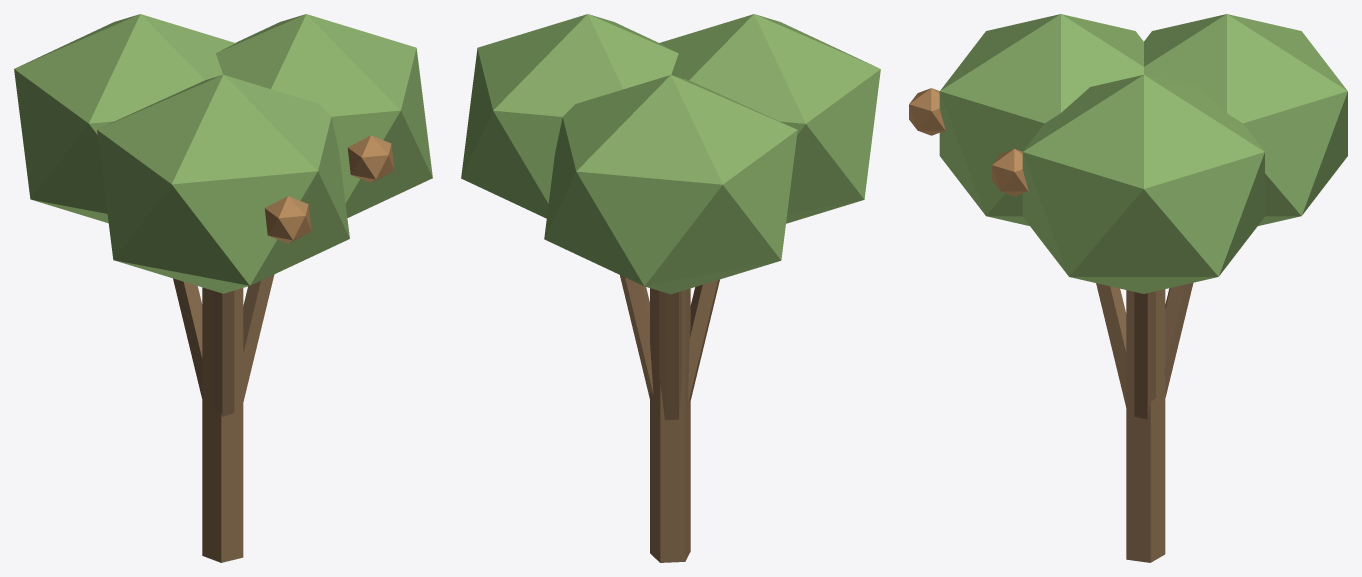
File: plant_hazel_ripe.glb
3 views of the same model, side by side, from view 1: azimuth 30°, elevation 25°; view 2: azimuth 150°, elevation 25°; view 3: azimuth 270°, elevation 25° (orthographic).
Parts seen in each view (by area): view 1: plant_hazel_ripe; view 2: plant_hazel_ripe; view 3: plant_hazel_ripe.
Boxes of the visible parts, x1,y1,x2,y2 form: plant_hazel_ripe: [14, 14, 432, 562]; plant_hazel_ripe: [461, 14, 880, 562]; plant_hazel_ripe: [909, 14, 1347, 562].
Bounding box in the file's own units: 0.8313 × 1.2 × 0.9158.
